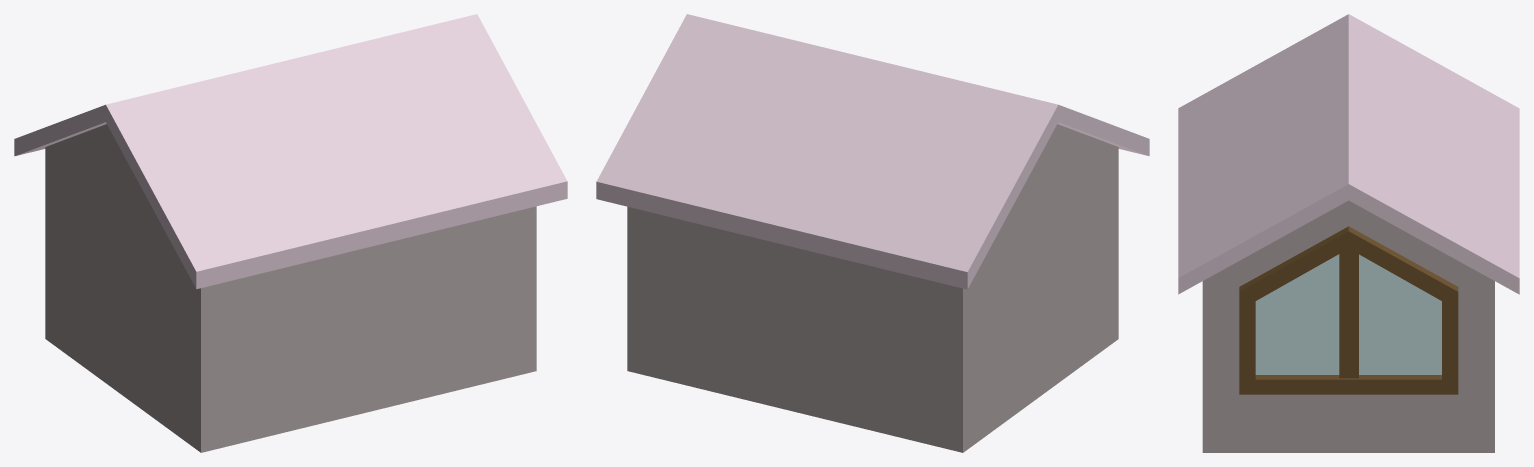
The model's file is roof_window_2_3.fbx.
3 views of the same model, side by side, from view 1: azimuth 30°, elevation 25°; view 2: azimuth 150°, elevation 25°; view 3: azimuth 270°, elevation 25° (orthographic). The views are drawn at different scales.
Parts seen in each view (by area): view 1: roof_window_2_3; view 2: roof_window_2_3; view 3: roof_window_2_3.
Boxes of the visible parts, x1,y1,x2,y2 form: roof_window_2_3: (14, 14, 567, 452); roof_window_2_3: (596, 14, 1149, 452); roof_window_2_3: (1178, 14, 1519, 452).
Bounding box in the file's own units: 361 × 274 × 306.
